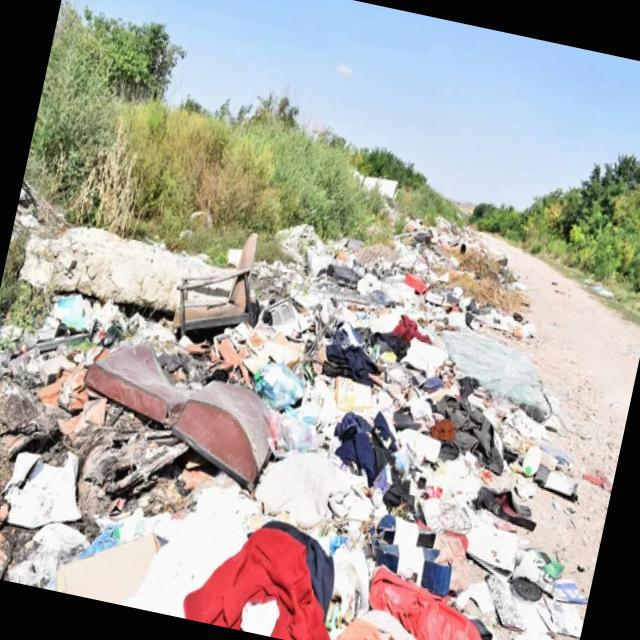garbage: (27, 202, 589, 640)
